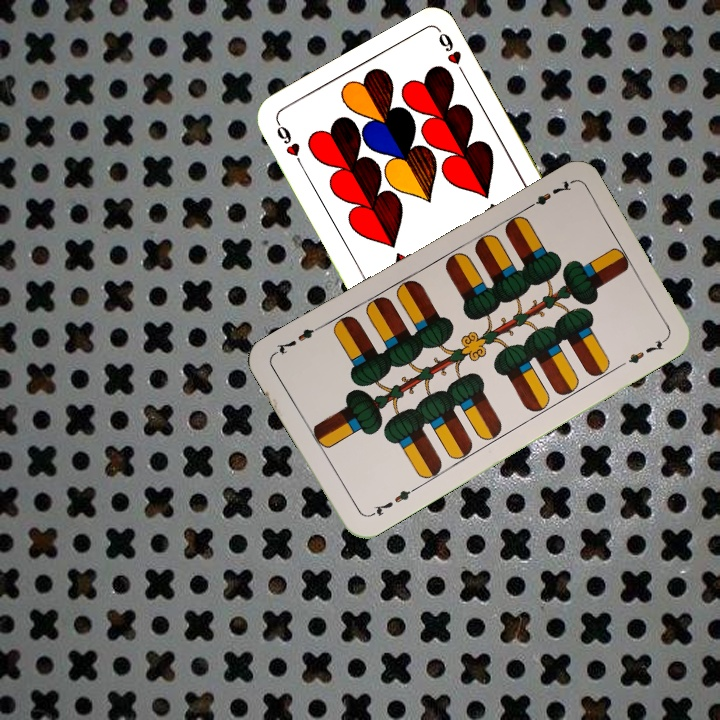E7: (365, 483, 419, 520), (521, 177, 574, 213)
H9: (272, 118, 308, 173)
